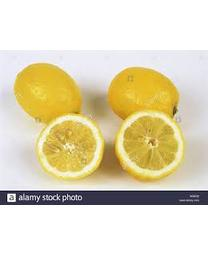lemon: (117, 110, 186, 180), (38, 112, 104, 180), (14, 63, 83, 124), (107, 65, 179, 118)
